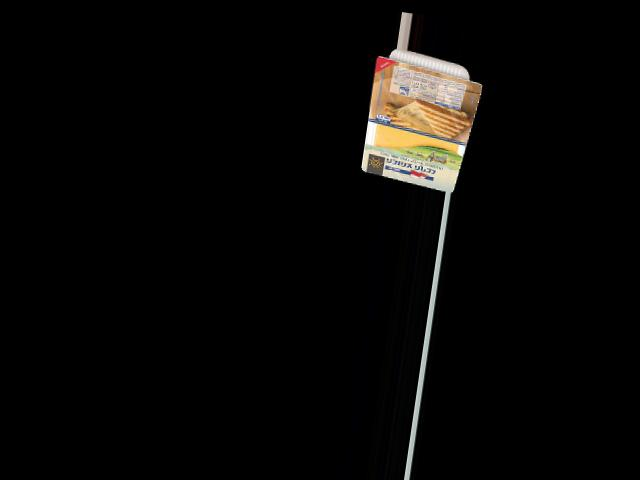cheese: (363, 46, 483, 193)
